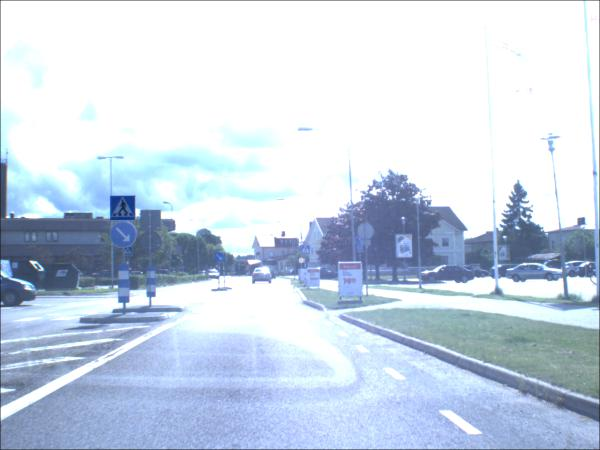PASS_RIGHT_SIDE: (112, 223, 138, 249), (215, 253, 227, 264)
PEDESTRIAN_CROSSING: (112, 197, 138, 222), (126, 248, 134, 257), (303, 247, 311, 256)
PRIORITY_ROAD: (300, 259, 307, 265)
